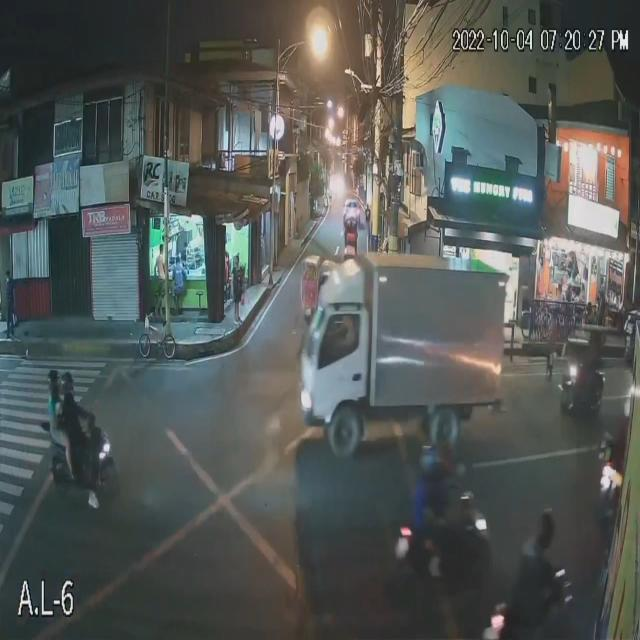Full-Faced: (431, 430, 454, 474), (534, 503, 558, 544), (418, 435, 436, 472), (58, 370, 76, 396), (46, 362, 61, 392)
